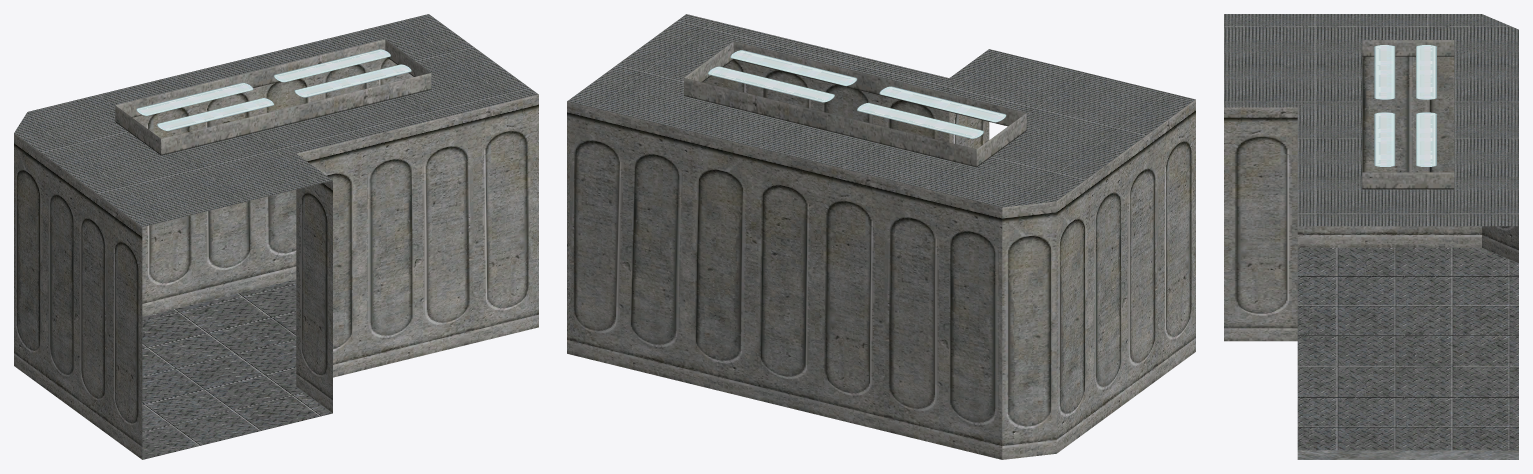
The model's file is mun_corl_guild_combat_s01_r3_hallb_mesh_hallb.fbx.
3 renders of one model, left to right at view 1: azimuth 30°, elevation 25°; view 2: azimuth 150°, elevation 25°; view 3: azimuth 270°, elevation 25°, orthographic. The views are drawn at different scales.
Visible parts, largest first — view 1: mesh_node; view 2: mesh_node; view 3: mesh_node.
Boxes of the visible parts, <box> form: mesh_node: <box>14,14,538,459</box>; mesh_node: <box>567,14,1195,459</box>; mesh_node: <box>1224,14,1518,459</box>.
Size of the model in its own units: 6.82 by 3.75 by 4.
